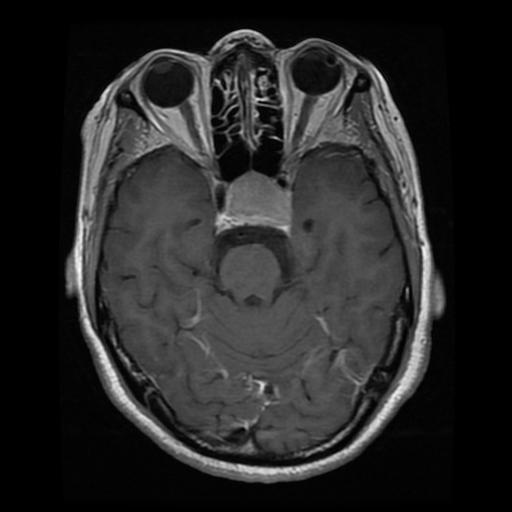Pituirity_tumour: (219, 170, 289, 232)
